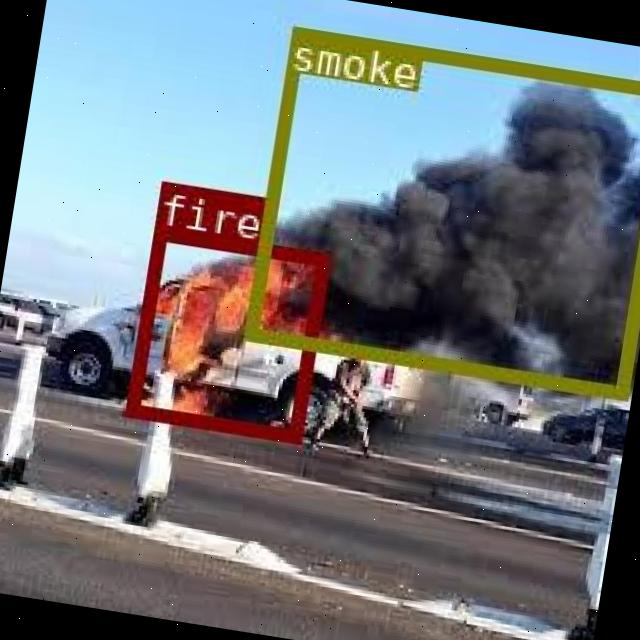fire: (124, 224, 327, 439)
smoke: (242, 26, 640, 398)
